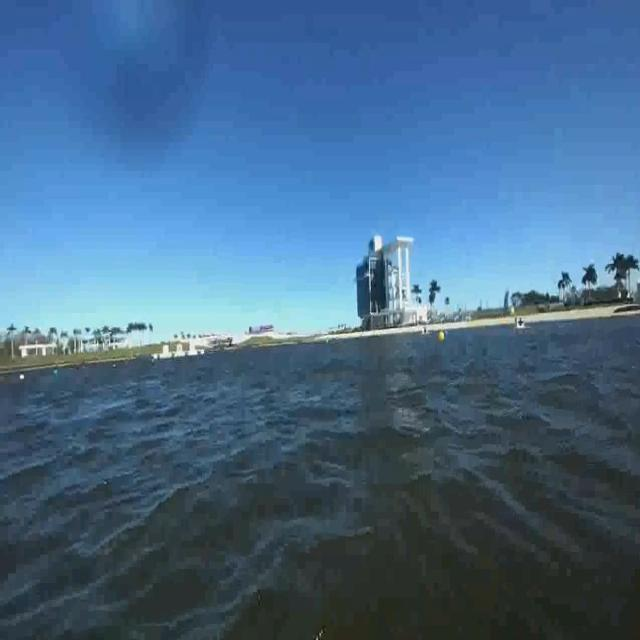yellow-buoy: (440, 330, 448, 344)
